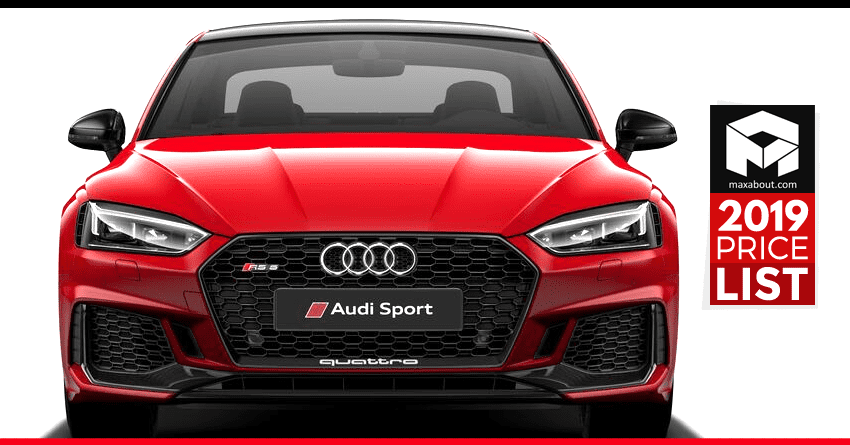audi: (311, 238, 424, 281)
